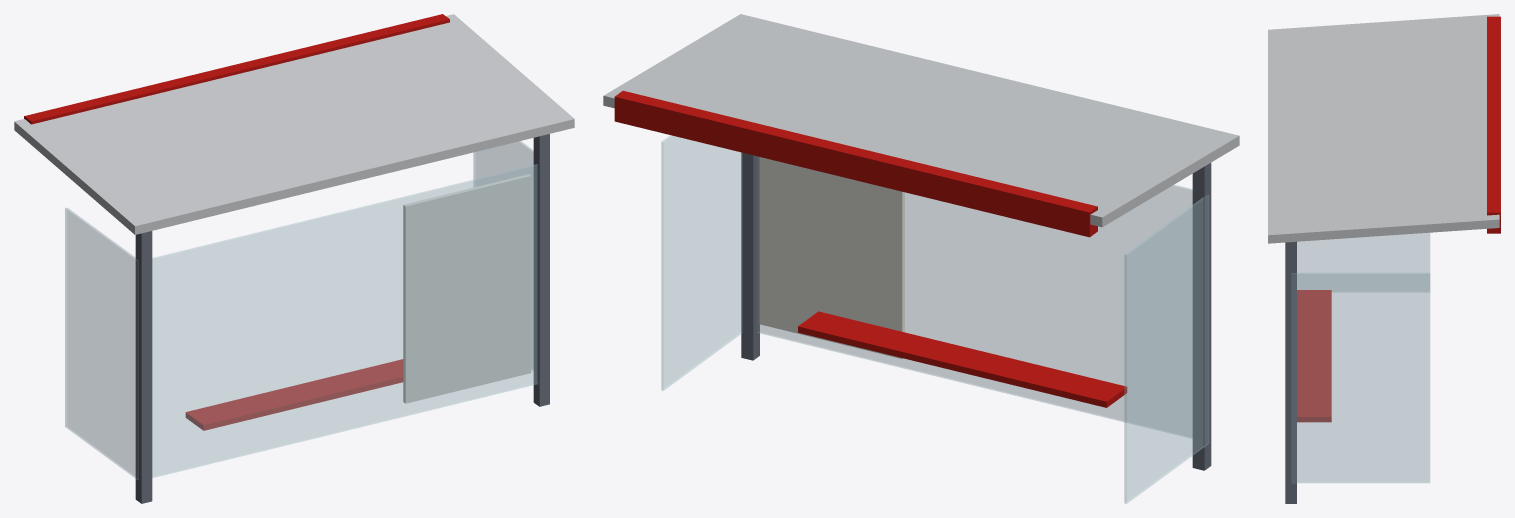
The model's file is station.bus.bus_shelter.glb.
3 renders of one model, left to right at view 1: azimuth 30°, elevation 25°; view 2: azimuth 150°, elevation 25°; view 3: azimuth 270°, elevation 25°, orthographic. The views are drawn at different scales.
Visible parts, largest first — view 1: main__glass, main__aluminium, main__paint_white, main__plastic_red, main__steel_painted; view 2: main__glass, main__aluminium, main__plastic_red, main__paint_white, main__steel_painted; view 3: main__aluminium, main__glass, main__plastic_red, main__steel_painted.
Boxes of the visible parts, x1,y1,x2,y2 form: main__glass: (65,141,537,479); main__aluminium: (14,14,574,234); main__paint_white: (403,174,531,403); main__plastic_red: (24,14,449,430); main__steel_painted: (135,134,549,503); main__glass: (661,135,1208,503); main__aluminium: (603,14,1239,227); main__plastic_red: (614,90,1127,407); main__paint_white: (759,157,904,358); main__steel_painted: (741,152,1211,470); main__aluminium: (1268,14,1499,243); main__glass: (1291,233,1430,482); main__plastic_red: (1297,16,1500,422); main__steel_painted: (1285,241,1296,503).
Size of the model in its own units: 4.2 by 2.8 by 2.01.
